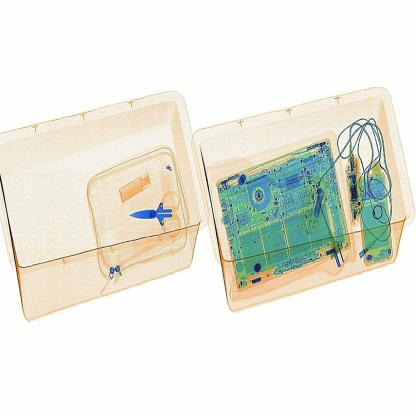gun: (128, 186, 199, 260)
